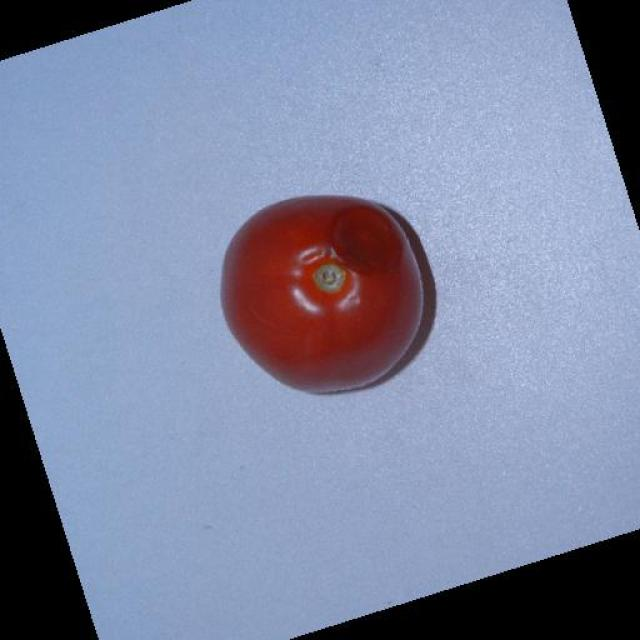Stale_tomato: (230, 178, 442, 412)
